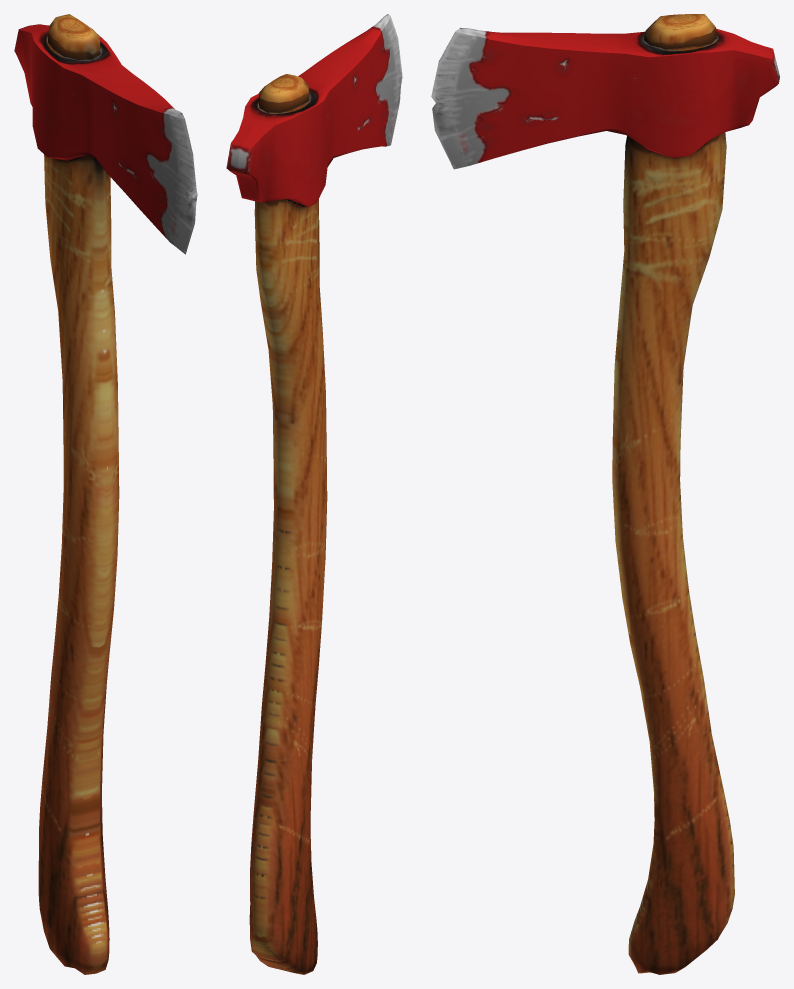
Rendered from Axe.FBX.
The picture shows the model from 3 angles, left to right: view 1: azimuth 30°, elevation 25°; view 2: azimuth 150°, elevation 25°; view 3: azimuth 270°, elevation 25°; orthographic projection. The views are drawn at different scales.
Visible parts, largest first — view 1: Lumberjack_Axe; view 2: Lumberjack_Axe; view 3: Lumberjack_Axe.
Part boxes in pixels (<box>): Lumberjack_Axe: <box>14,14,197,974</box>; Lumberjack_Axe: <box>226,14,402,974</box>; Lumberjack_Axe: <box>431,14,779,974</box>.
Size of the model in its own units: 0.0735 by 1.04 by 0.3446.
